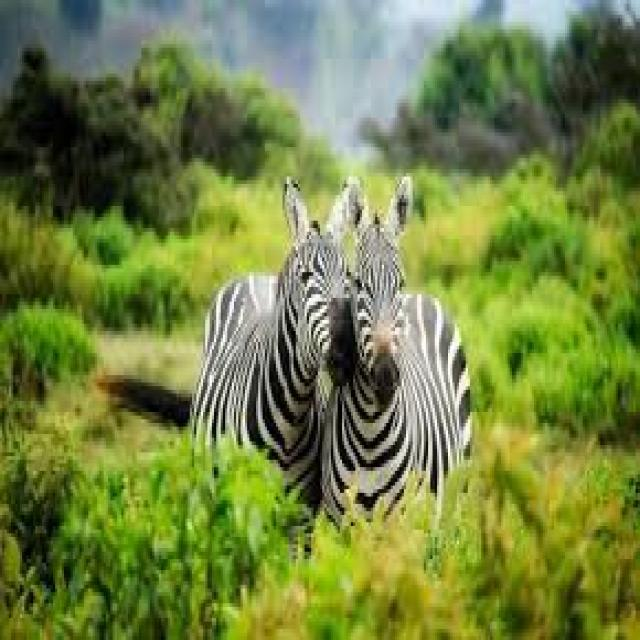Zebra: (188, 196, 352, 510), (349, 212, 473, 512)
